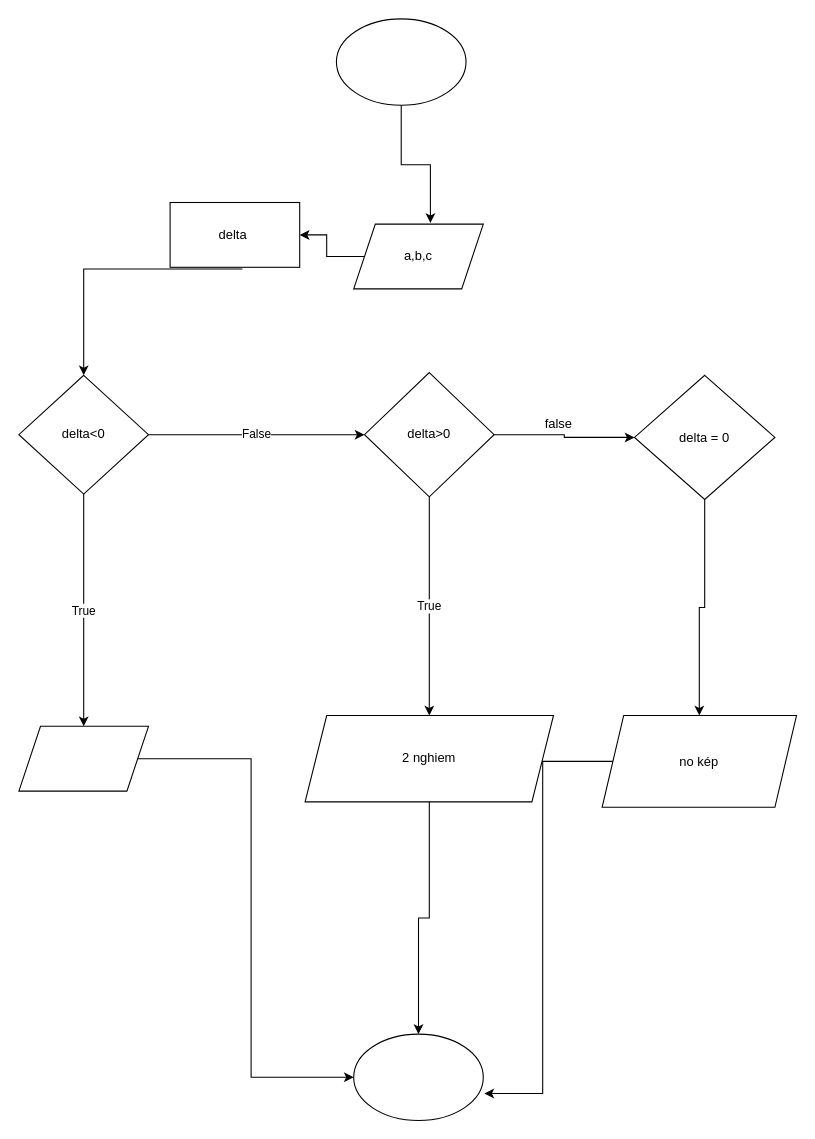
Some shapes in this 815 by 1139 pixel diagram are drawn without their labels. The box of each missing label's shape, as (x1, y1, x2, y2) in pixels:
end: (353, 1033, 483, 1120)
start: (335, 18, 466, 105)
vo nghiem: (18, 725, 148, 791)
